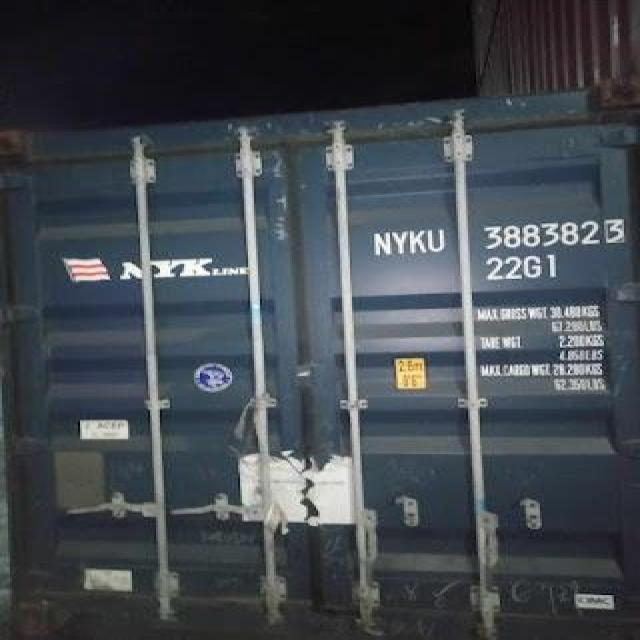ISO: (488, 256, 560, 281)
container_number: (362, 220, 630, 248)
